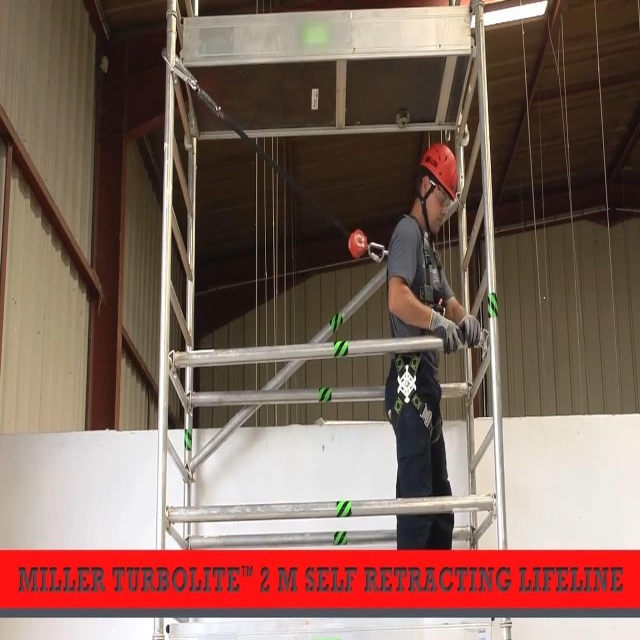Arnes_seguridad: (388, 203, 450, 450)
